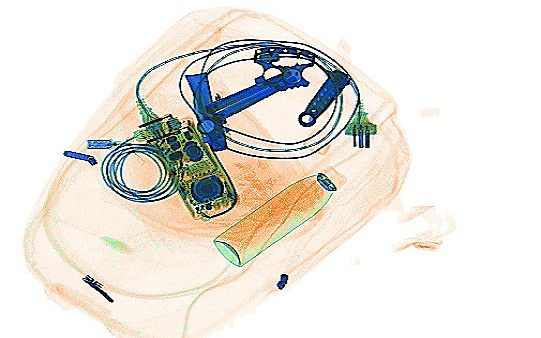knife: (201, 63, 310, 122), (178, 69, 227, 153), (295, 67, 351, 128)
pressure: (211, 162, 347, 268)
